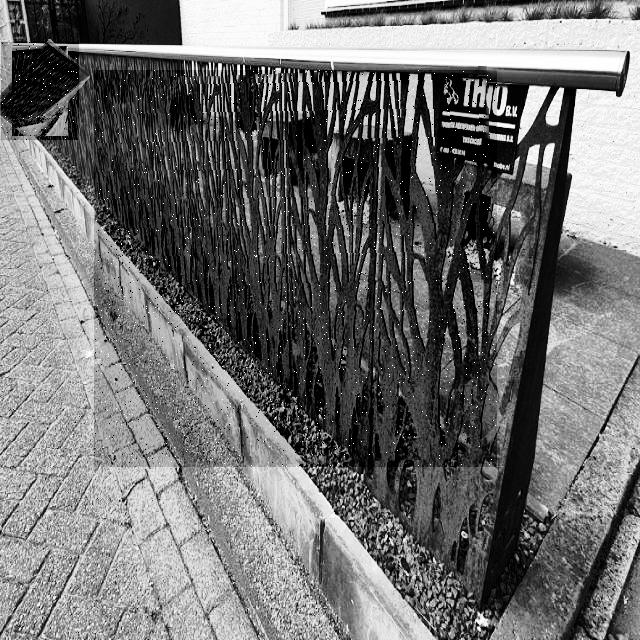fences: (94, 70, 497, 467), (1, 42, 79, 140)
